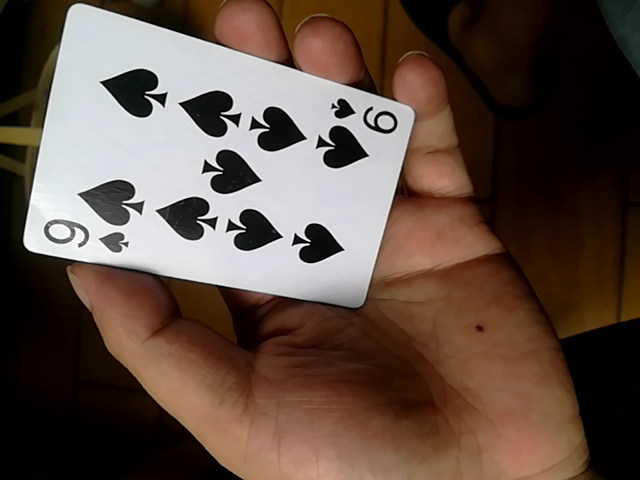ht 9: (26, 6, 419, 316)
